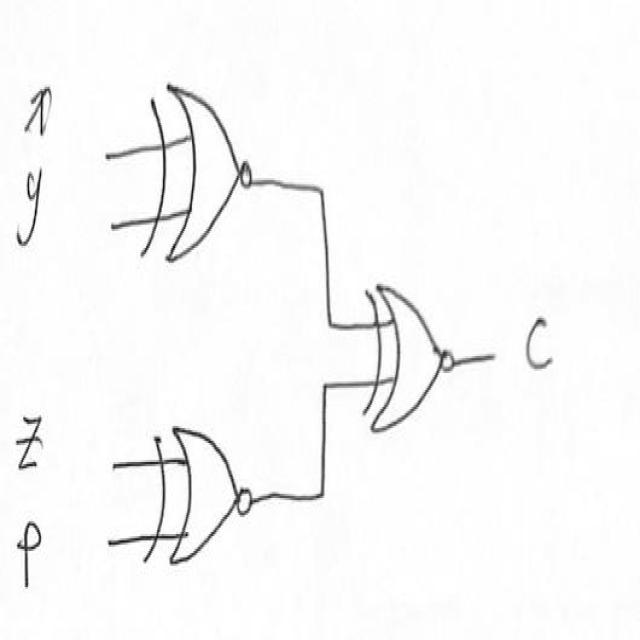XNOR: (138, 66, 268, 292), (357, 254, 458, 473), (144, 407, 258, 588)
